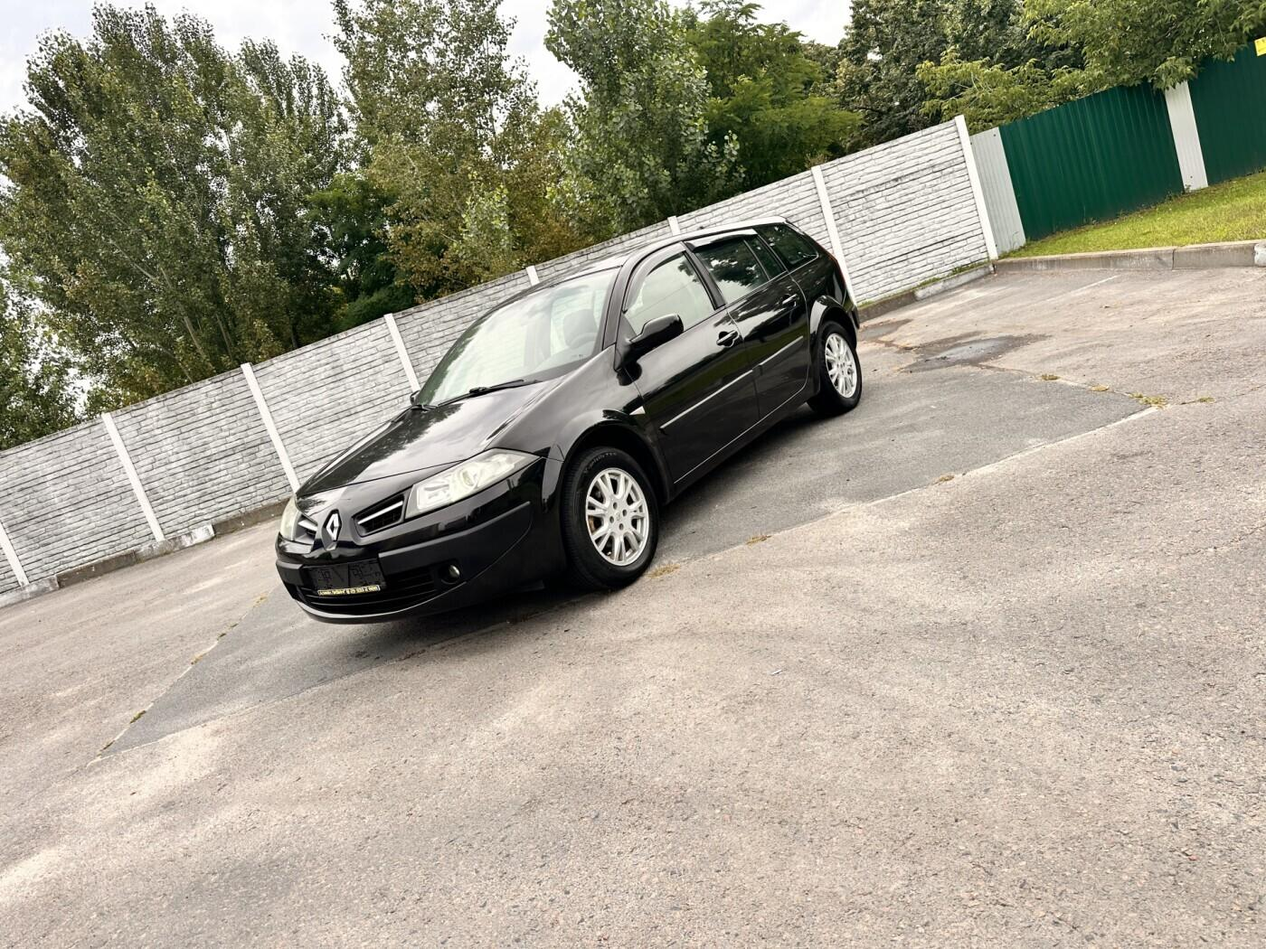Megane_2005-2009: (278, 217, 866, 628)
